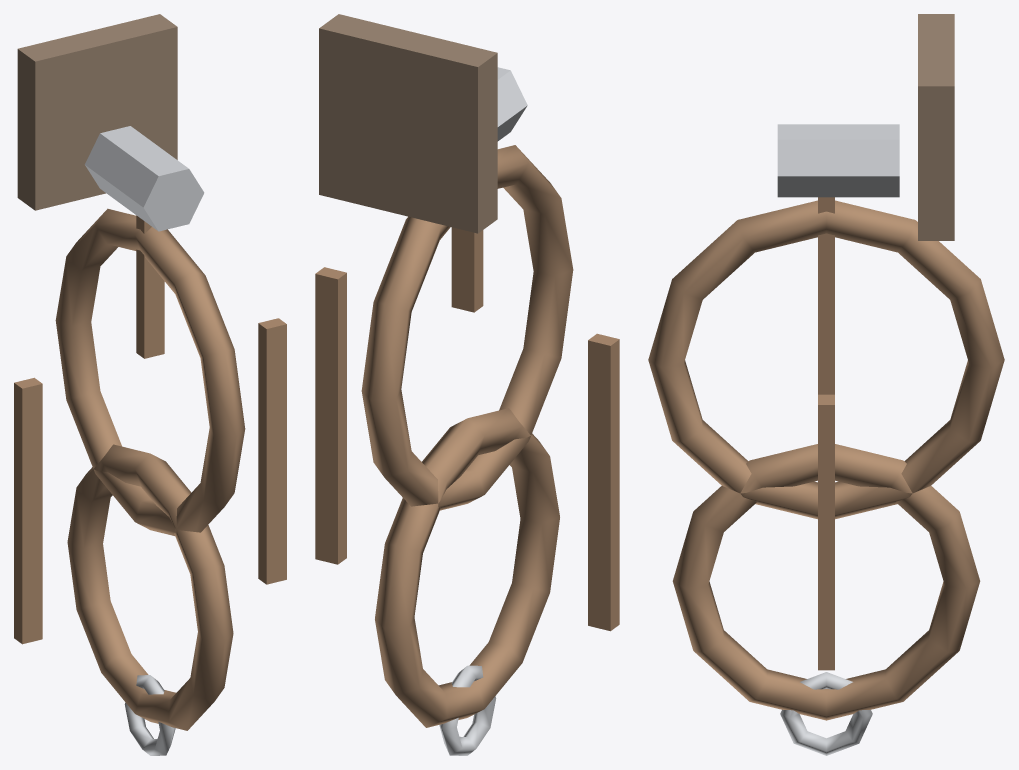
Rendered from halter-on-hook.glb.
3 renders of one model, left to right at view 1: azimuth 30°, elevation 25°; view 2: azimuth 150°, elevation 25°; view 3: azimuth 270°, elevation 25°, orthographic. The views are drawn at different scales.
Parts seen in each view (by area): view 1: halter-on-hook; view 2: halter-on-hook; view 3: halter-on-hook.
Part boxes in pixels (x1,y1,x2,y2): halter-on-hook: (14,14,286,755); halter-on-hook: (315,14,619,755); halter-on-hook: (648,14,1004,755).
Bounding box in the file's own units: 0.26 × 0.638 × 0.292.
